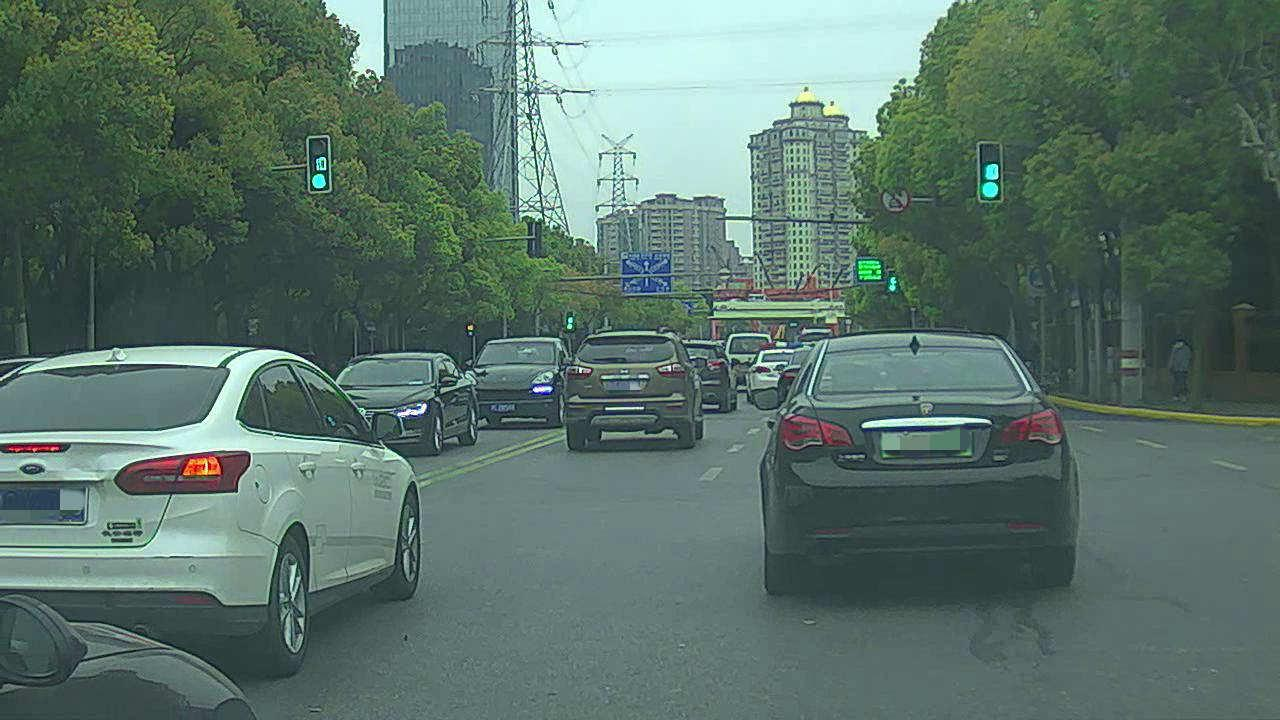traffic_light: (974, 142, 1005, 206), (309, 136, 332, 194)
